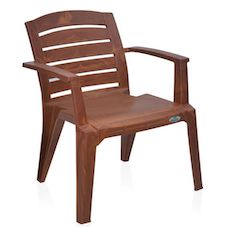chair: (10, 3, 213, 222)
